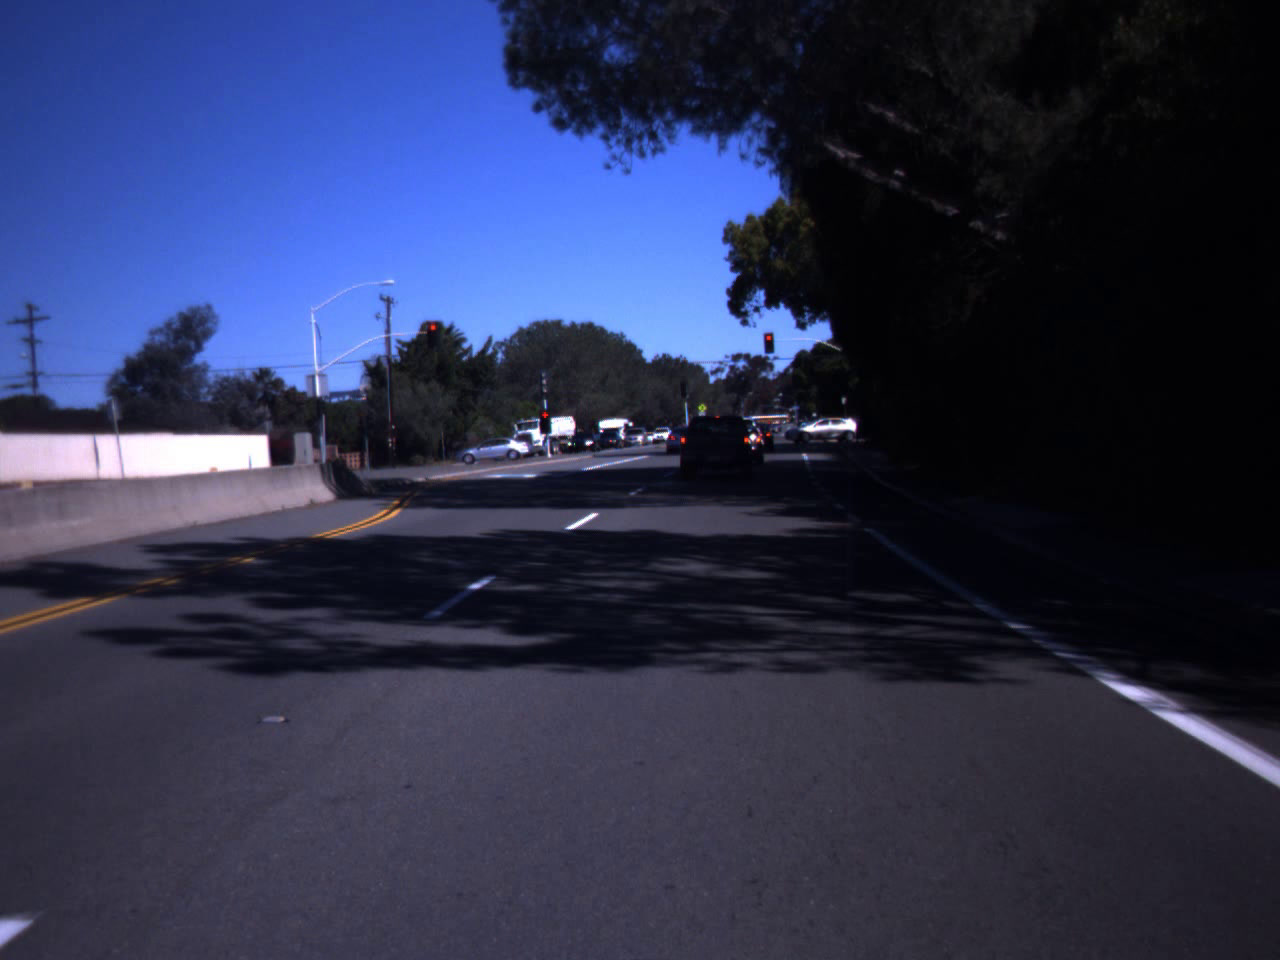stop: (426, 322, 441, 344), (540, 409, 552, 436), (762, 334, 774, 352)
